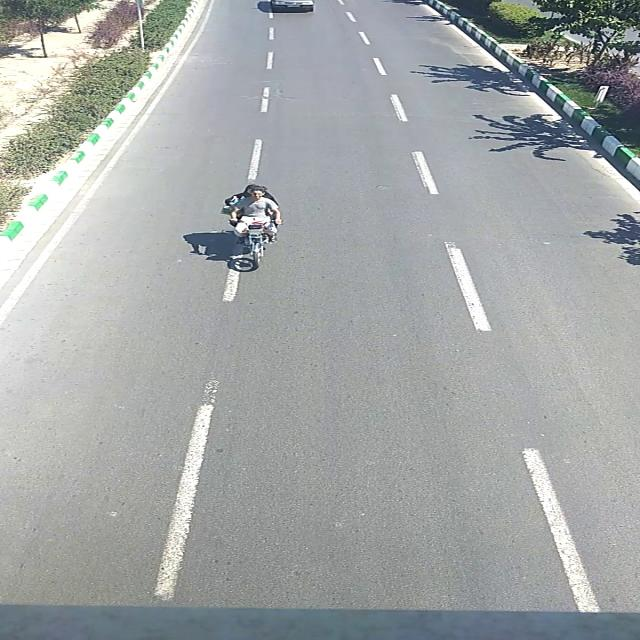car: (264, 0, 318, 10)
motor: (223, 186, 287, 270)
